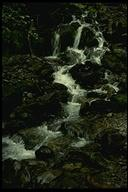rock: (4, 2, 126, 188)
waterfall: (5, 13, 114, 176)
